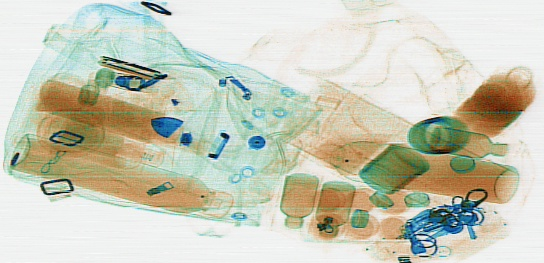pressure: (310, 139, 520, 205)
